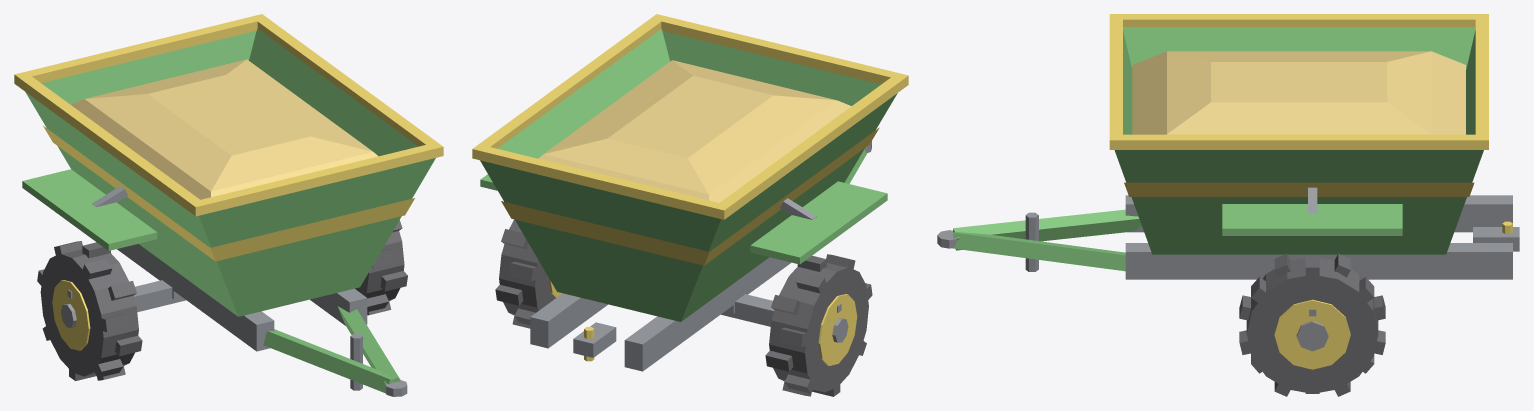
Rendered from cart.glb.
3 renders of one model, left to right at view 1: azimuth 30°, elevation 25°; view 2: azimuth 150°, elevation 25°; view 3: azimuth 270°, elevation 25°, orthographic. The views are drawn at different scales.
Parts seen in each view (by area): view 1: hopper, grain, hopper_lip, tyre_R, fender_R, hopper_band, rails, tread_R, tongue_R, rim_R, tyre_L, tongue_L (+3 smaller); view 2: hopper, grain, hopper_lip, rails, tyre_R, fender_R, hopper_band, tread_R, tyre_L, rim_R, tread_L, axle (+2 smaller); view 3: hopper, grain, hopper_lip, rails, tyre_L, fender_L, hopper_band, rim_L, tongue_L, tongue_R, tread_L, tow_bar (+2 smaller).
Part boxes in pixels (x1,y1,x2,y2): hopper: (25, 28, 435, 316); grain: (71, 59, 378, 199); hopper_lip: (14, 14, 443, 216); tyre_R: (40, 249, 138, 376); fender_R: (22, 169, 157, 250); hopper_band: (43, 126, 414, 261); rails: (117, 244, 367, 351); tread_R: (37, 241, 142, 381); tongue_R: (263, 329, 400, 393); rim_R: (52, 280, 90, 350); tyre_L: (355, 231, 404, 300); tongue_L: (337, 306, 399, 384); hopper: (480, 29, 897, 321); grain: (538, 60, 851, 202); hopper_lip: (472, 14, 908, 219); rails: (530, 257, 791, 371); tyre_R: (769, 263, 868, 392); fender_R: (750, 181, 887, 264); hopper_band: (501, 127, 879, 265); tread_R: (765, 254, 872, 396); tyre_L: (499, 219, 555, 315); rim_R: (818, 294, 857, 365); tread_L: (495, 229, 536, 328); axle: (721, 294, 774, 326); hopper: (1114, 27, 1483, 254); grain: (1132, 51, 1465, 134); hopper_lip: (1109, 14, 1488, 149); rails: (1125, 195, 1512, 279); tyre_L: (1246, 258, 1378, 393); fender_L: (1222, 204, 1402, 235); hopper_band: (1124, 182, 1474, 196); rim_L: (1274, 299, 1350, 369); tongue_L: (952, 232, 1125, 271); tongue_R: (953, 209, 1141, 250); tread_L: (1239, 253, 1385, 396); tow_bar: (1473, 227, 1519, 251).
Bounding box in the file's own units: 2.84 × 2.04 × 4.36.
